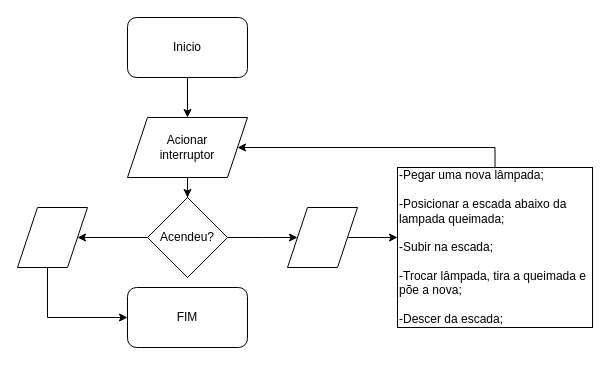
The diagram is 610 pixels wide and 365 high, and some of its shapes have lost their labels. The centre of each missing label's shape, as x and y in pixels:
"NÃO" goes at [322,237].
"SIM" goes at [52,237].
